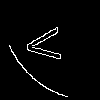V: (25, 25, 70, 65)
